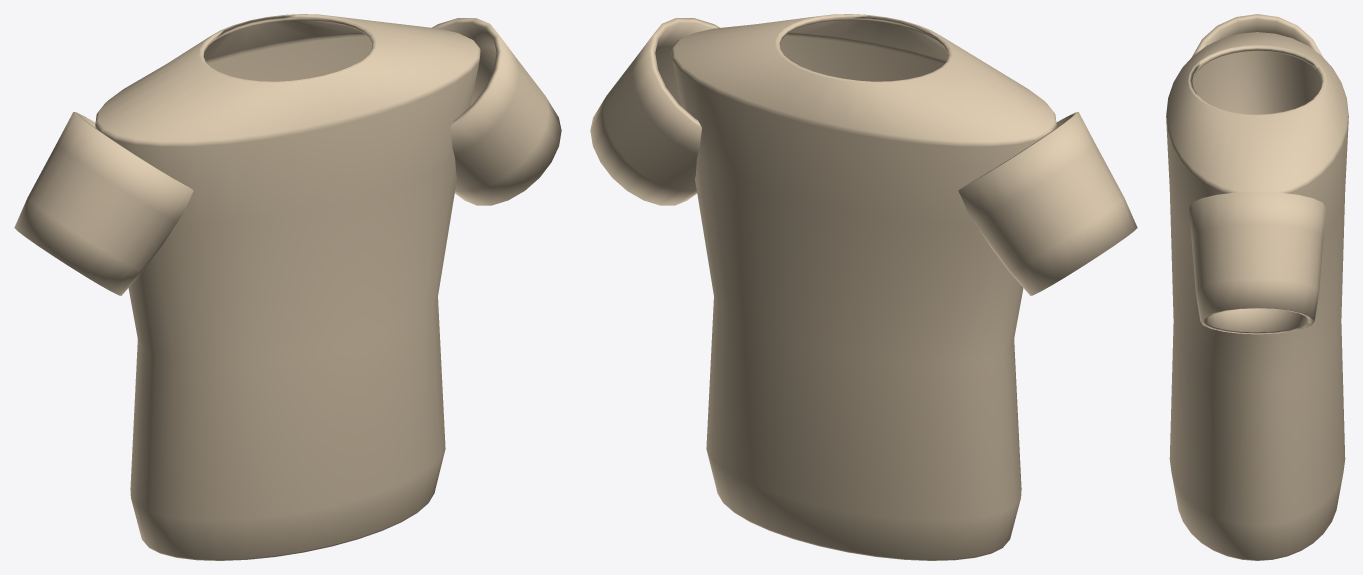
Rendered from camiseta-ra.glb.
The picture shows the model from 3 angles, left to right: view 1: azimuth 30°, elevation 25°; view 2: azimuth 150°, elevation 25°; view 3: azimuth 270°, elevation 25°; orthographic projection. The views are drawn at different scales.
Visible parts, largest first — view 1: Classic T-shirt fabric body, Classic T-shirt sleeve, Classic T-shirt sleeve.001; view 2: Classic T-shirt fabric body, Classic T-shirt sleeve, Classic T-shirt sleeve.001; view 3: Classic T-shirt fabric body, Classic T-shirt sleeve.001, Classic T-shirt sleeve.
Boxes of the visible parts, box(x1,y1,x2,y2) form: Classic T-shirt fabric body: box(95, 14, 480, 560); Classic T-shirt sleeve: box(14, 112, 193, 295); Classic T-shirt sleeve.001: box(432, 18, 561, 205); Classic T-shirt fabric body: box(671, 14, 1056, 560); Classic T-shirt sleeve: box(958, 112, 1137, 295); Classic T-shirt sleeve.001: box(590, 18, 719, 205); Classic T-shirt fabric body: box(1166, 32, 1348, 560); Classic T-shirt sleeve.001: box(1189, 191, 1325, 334); Classic T-shirt sleeve: box(1192, 14, 1322, 56).
Bounding box in the file's own units: 0.7176 × 0.6079 × 0.2396.
